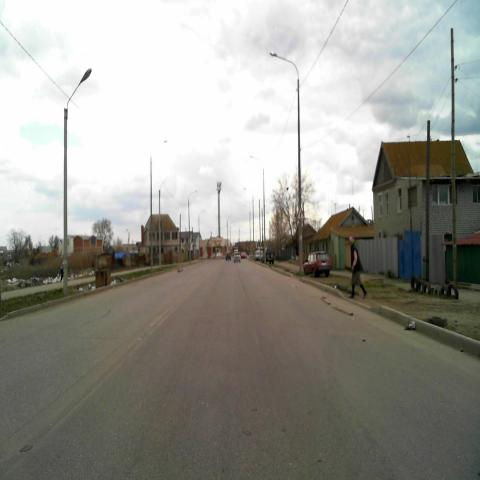1_11: (297, 206, 305, 220)
